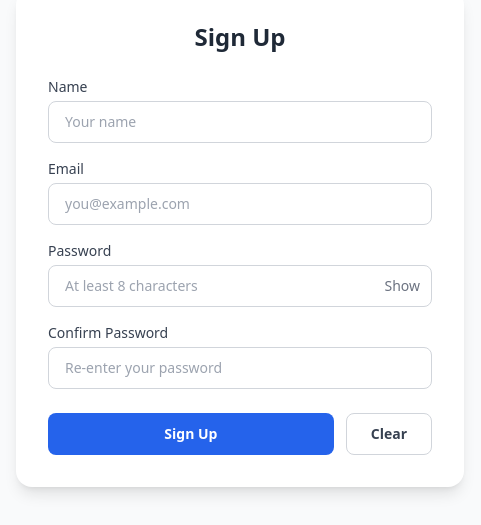
SignupForm › shows error for invalid email format
Step 1. Type "John" into the field labelled "Name" → point(240, 122), box [48,101,432,143]
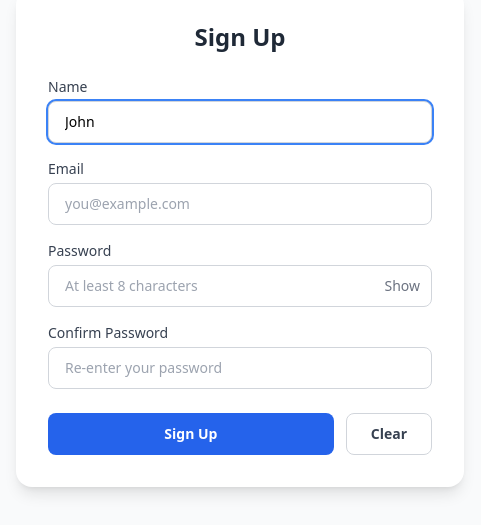
Step 2. Type "bad-email" into the field labelled "Email" → point(240, 204), box [48,183,432,225]
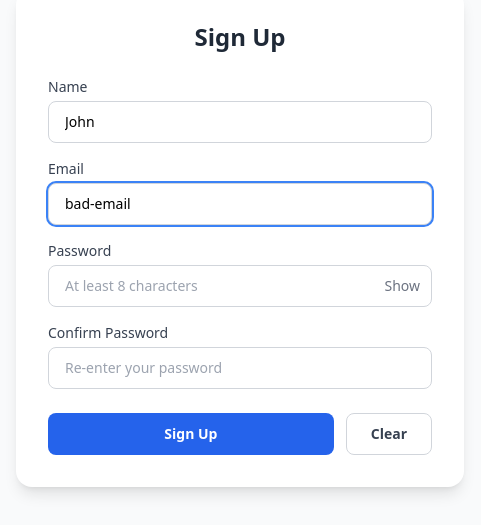
Step 3. Type "password123" into the password field labelled "Password" → point(240, 286), box [48,265,432,307]
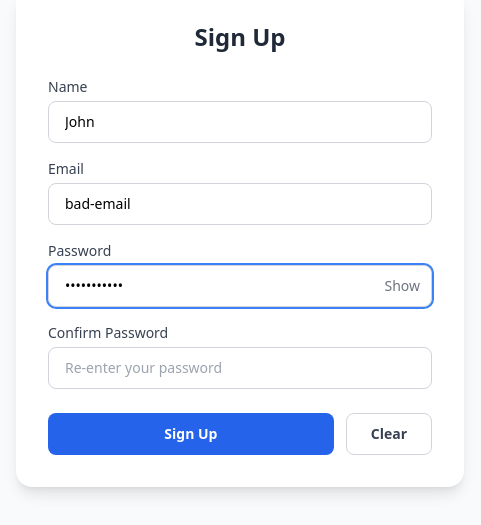
Step 4. Type "password123" into the password field labelled "Confirm Password" → point(240, 368), box [48,347,432,389]
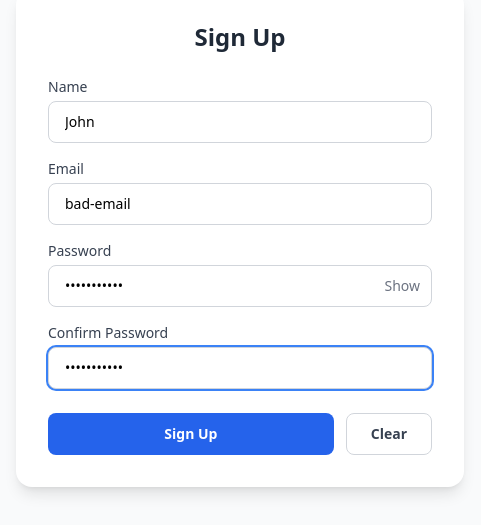
Step 5. Click the button "Sign Up" → point(191, 434), box [48,413,334,455]
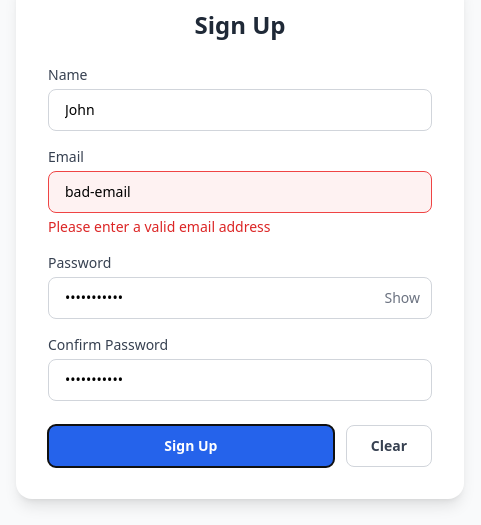
Check: the text "Please enter a valid email address" is shown, box [48,217,270,236]
